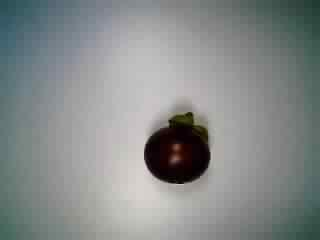mangosteen: (139, 108, 215, 187)
